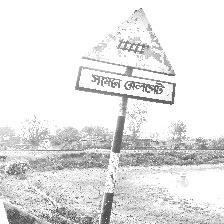Rail-crossing: (77, 8, 177, 105)
